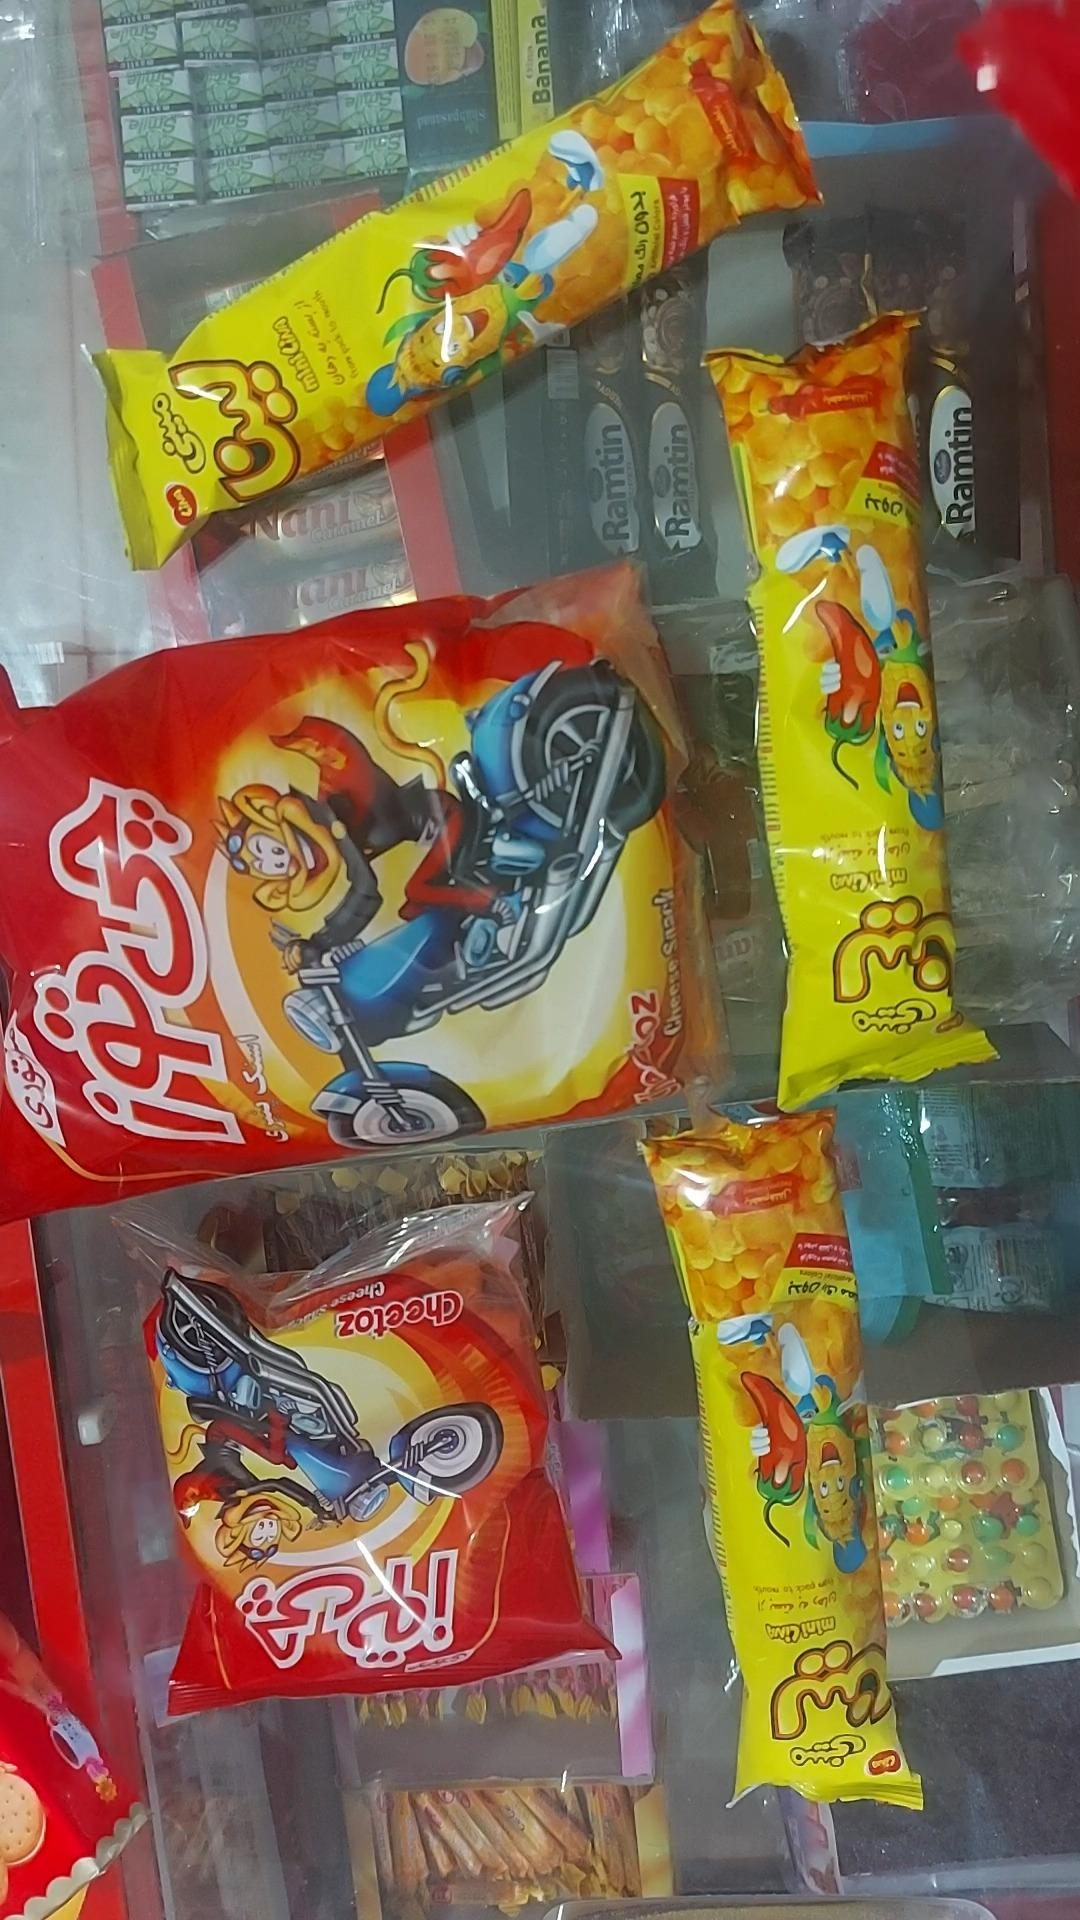Cheetoz snack 30g: (132, 1199, 607, 1710)
Cheetoz snack 90g: (0, 556, 729, 1225)
Mini Lina: (94, 0, 827, 567), (707, 309, 993, 1100), (653, 1105, 923, 1807)
